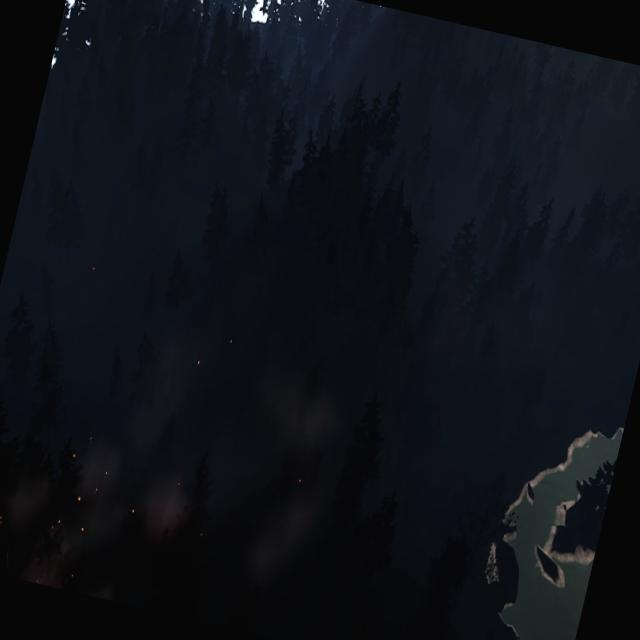smoke: (0, 293, 371, 640)
